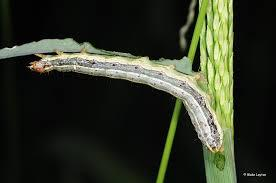fallarmy_worm: (25, 53, 227, 157)
